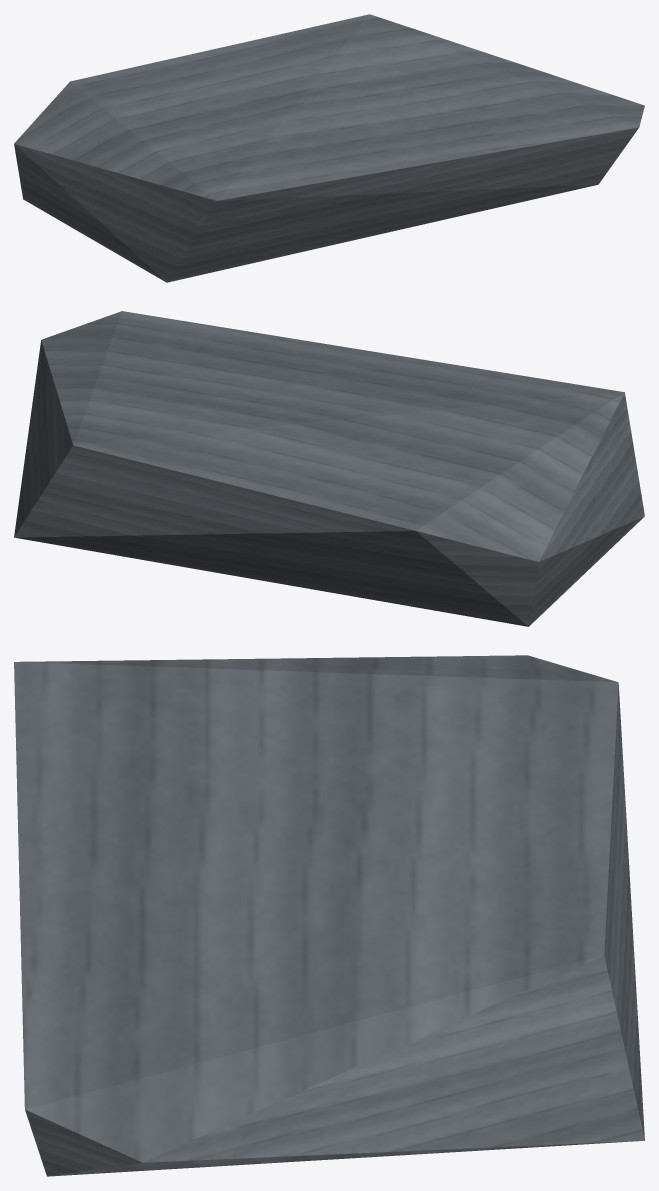
The model's file is outcrop_shale_sheet_LOD1.glb.
3 renders of one model, top to bottom at view 1: azimuth 30°, elevation 25°; view 2: azimuth 150°, elevation 25°; view 3: azimuth 270°, elevation 25°, orthographic. The views are drawn at different scales.
Visible parts, largest first — view 1: outcrop_shale_sheet_LOD1; view 2: outcrop_shale_sheet_LOD1; view 3: outcrop_shale_sheet_LOD1.
Boxes of the visible parts, box(x1,y1,x2,y2) form: outcrop_shale_sheet_LOD1: box(14, 14, 644, 282); outcrop_shale_sheet_LOD1: box(14, 311, 644, 626); outcrop_shale_sheet_LOD1: box(14, 655, 644, 1176).
Size of the model in its own units: 2.32 by 0.36 by 1.29.
1 material, 1 textured.
